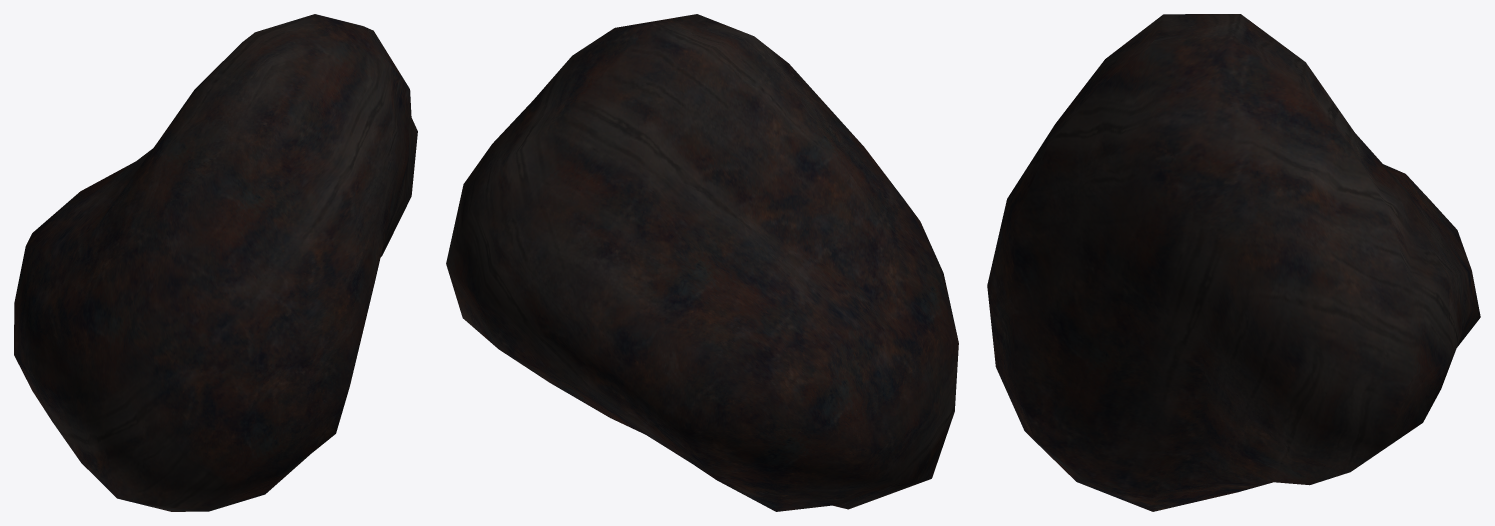
The model's file is rock1.fbx.
3 views of the same model, side by side, from view 1: azimuth 30°, elevation 25°; view 2: azimuth 150°, elevation 25°; view 3: azimuth 270°, elevation 25° (orthographic). The views are drawn at different scales.
Visible parts, largest first — view 1: rock1; view 2: rock1; view 3: rock1.
Part boxes in pixels (x1,y1,x2,y2): rock1: (14,14,417,511); rock1: (446,14,958,511); rock1: (987,14,1480,511).
Bounding box in the file's own units: 95.46 × 100 × 82.42.
